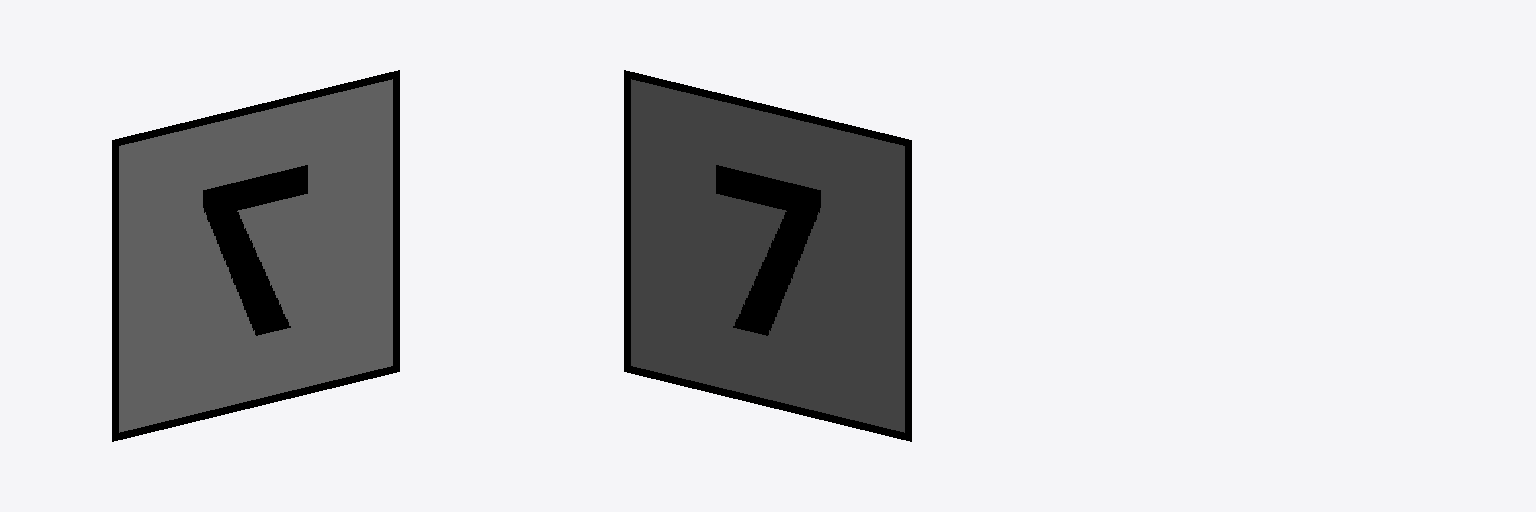
3 views of the same model, side by side, from view 1: azimuth 30°, elevation 25°; view 2: azimuth 150°, elevation 25°; view 3: azimuth 270°, elevation 25° (orthographic).
Visible parts, largest first — view 1: 平面.001; view 2: 平面.001; view 3: none.
Part boxes in pixels (x1,y1,x2,y2): 平面.001: (112, 70, 399, 441); 平面.001: (624, 70, 911, 441).
Size of the model in its own units: 2 by 2 by 0.
1 materials, 1 textured.